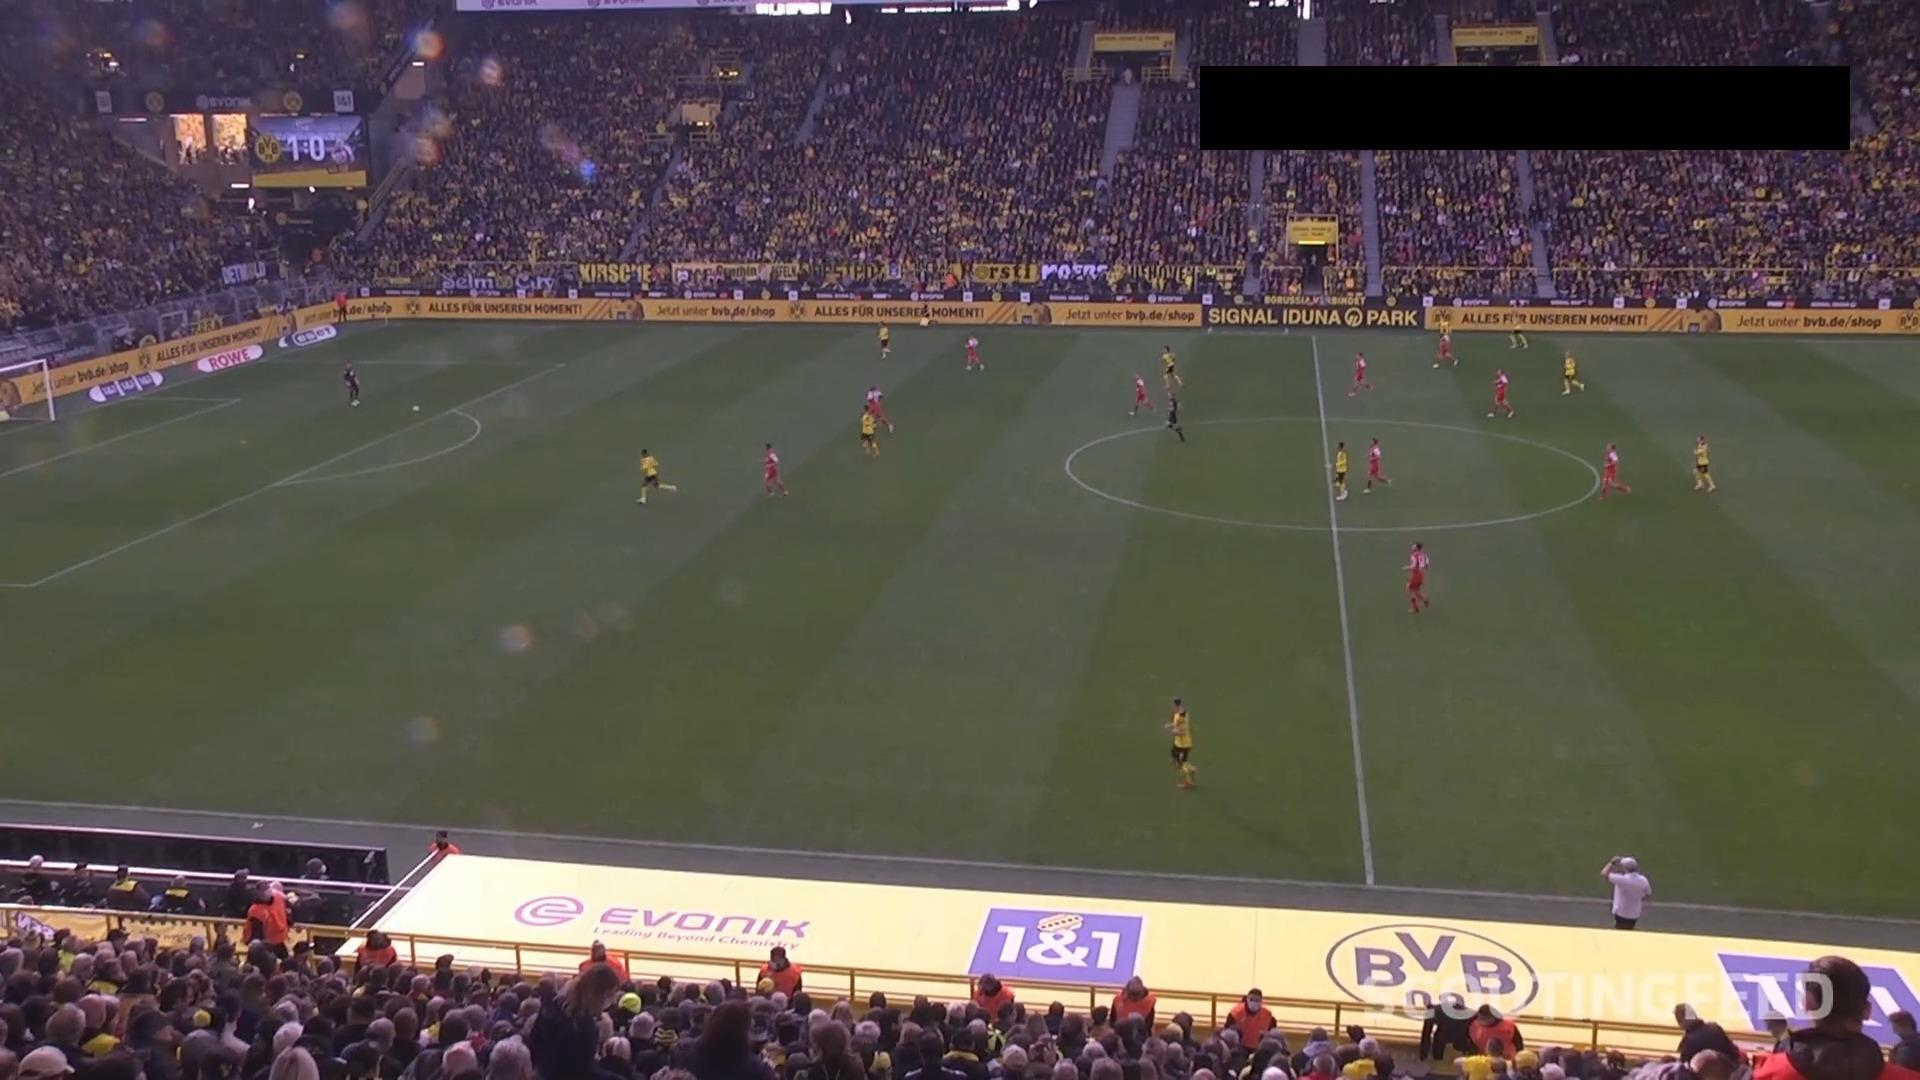ball: (618, 992, 642, 1014), (411, 404, 419, 412)
coach: (1599, 854, 1652, 929)
fan: (1762, 952, 1879, 1052), (1417, 993, 1479, 1061)
player: (1162, 696, 1197, 789), (636, 447, 677, 505), (1401, 540, 1430, 613), (1598, 441, 1631, 500), (1361, 436, 1391, 494), (761, 442, 788, 497), (863, 384, 893, 433), (1486, 367, 1514, 419), (1691, 433, 1715, 491), (1346, 350, 1373, 397), (859, 404, 881, 458), (1128, 371, 1154, 416), (1330, 440, 1349, 501), (1431, 327, 1458, 369), (1560, 350, 1584, 395), (1160, 343, 1182, 390), (341, 360, 361, 406), (963, 333, 985, 371), (876, 321, 892, 358), (1508, 325, 1528, 349), (918, 303, 931, 327)
referee: (1164, 386, 1185, 441), (333, 289, 348, 323)
